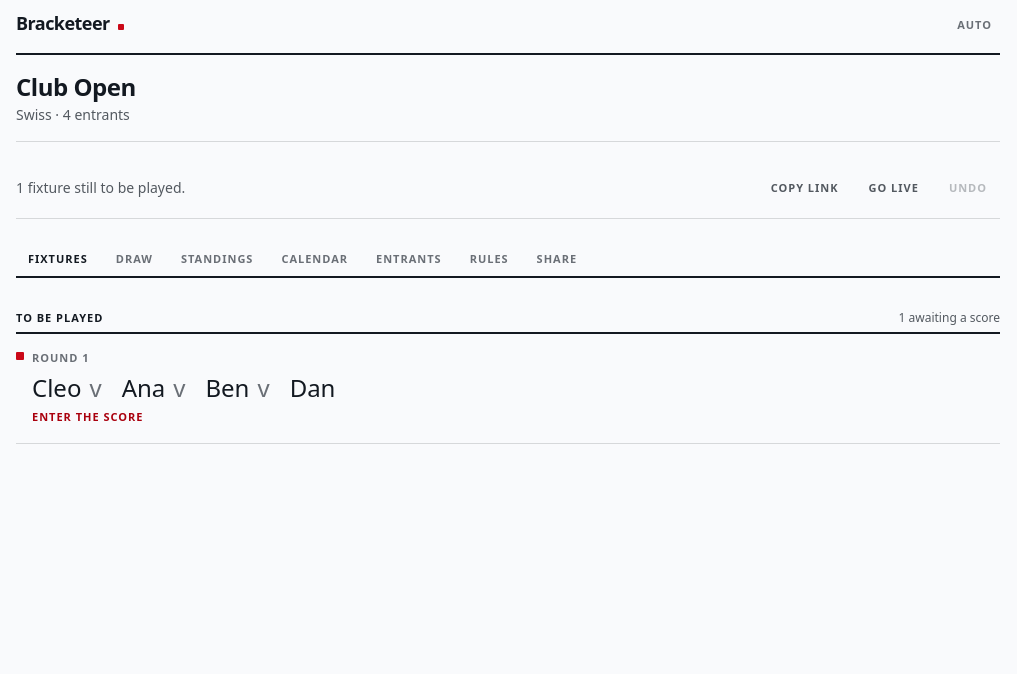
recording a result, in every shape the rules can take › takes a finishing order by tapping the names in order
Click the button "Enter the score".
click(57, 387)  # box [16,372,1000,426]
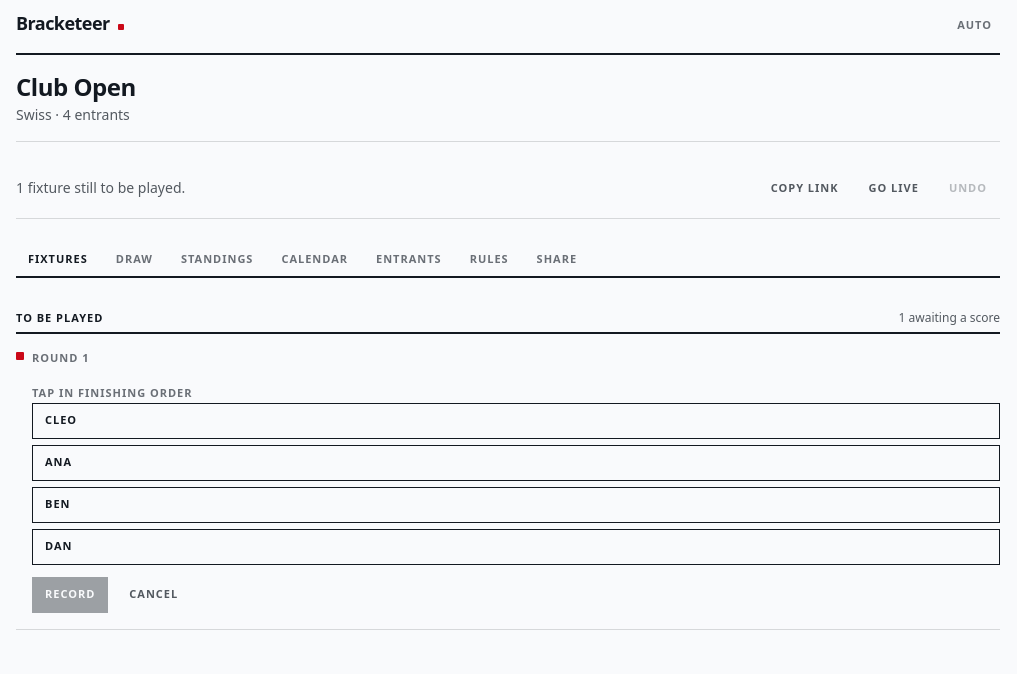
Result: the button "Record" is disabled at [32,576,108,612]
Click the button "Ana".
click(59, 462)  # box [32,444,1000,480]
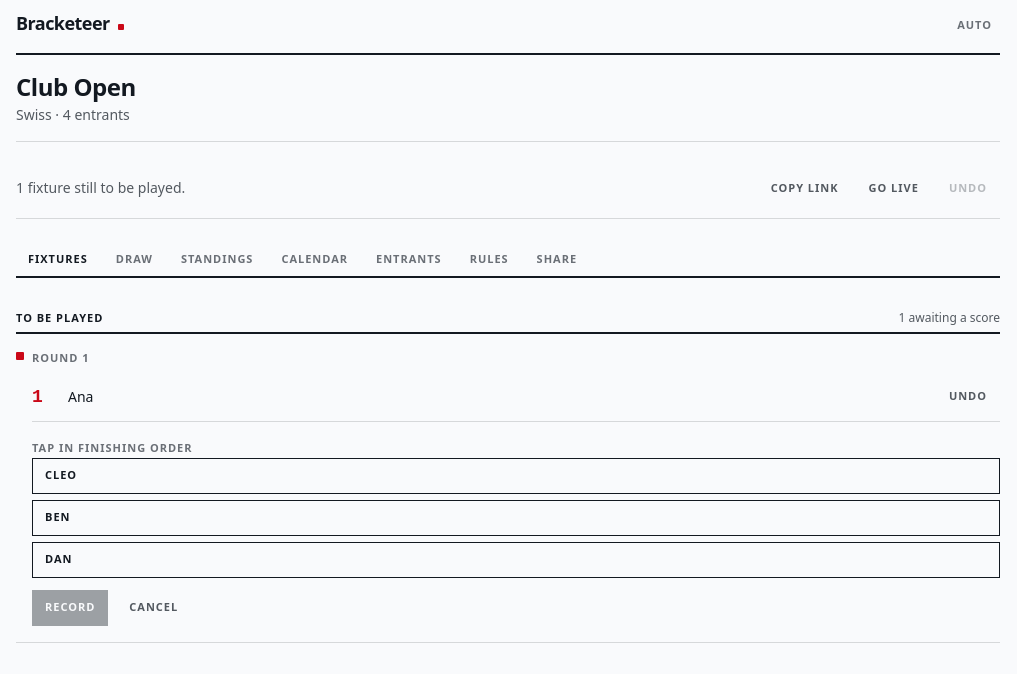
Click the button "Ben".
click(58, 517)  # box [32,500,1000,536]
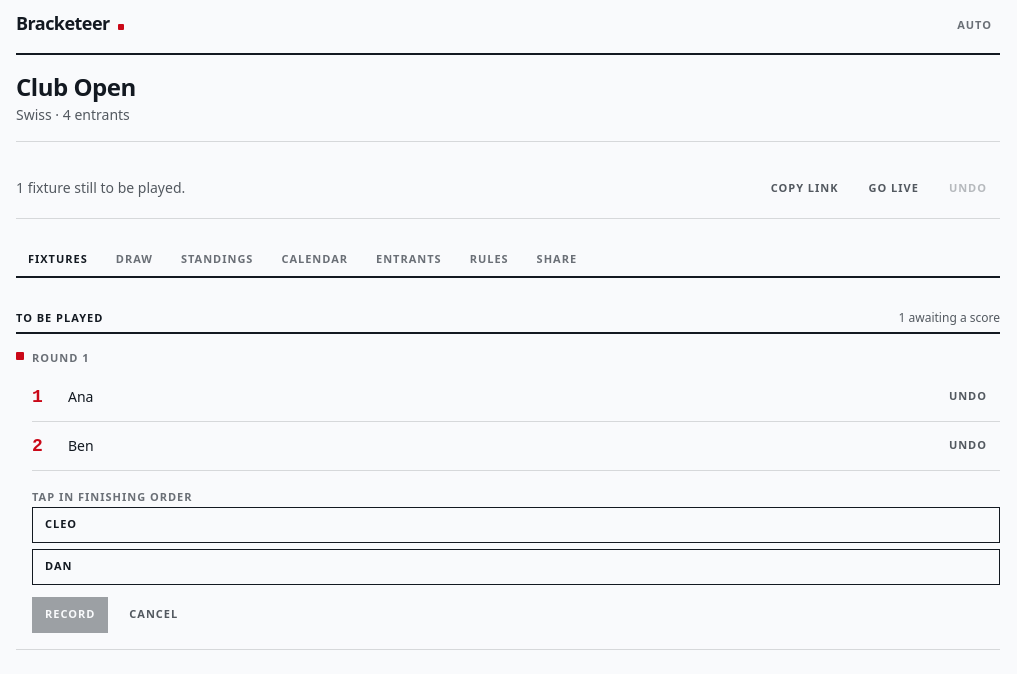
Click the button "Cleo".
click(61, 524)  # box [32,506,1000,542]
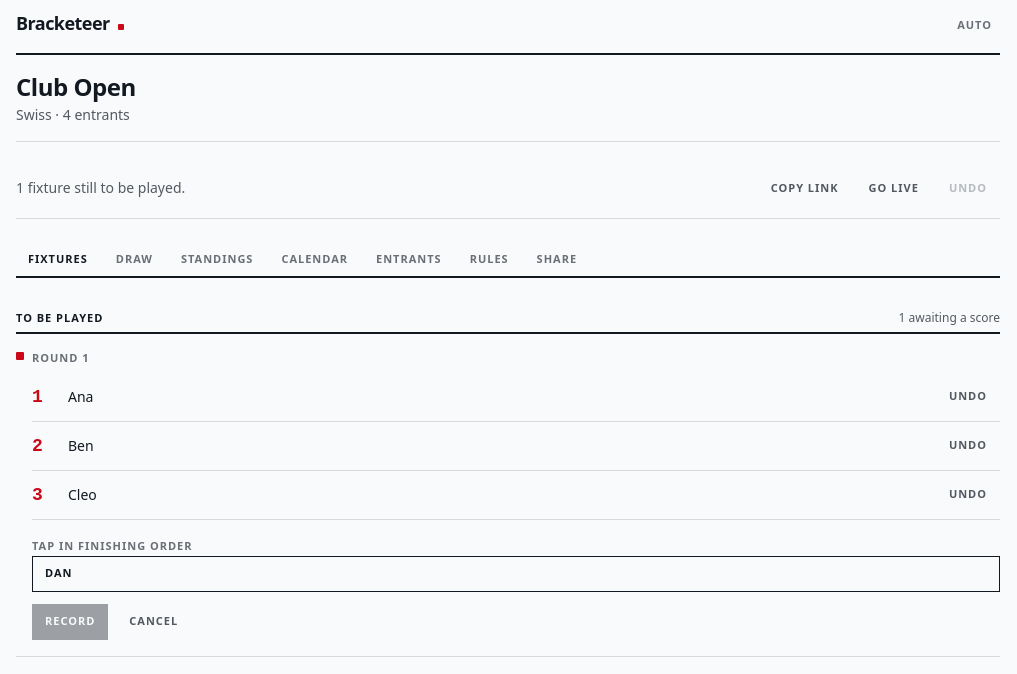
Click the button "Dan".
click(59, 573)  # box [32,556,1000,592]
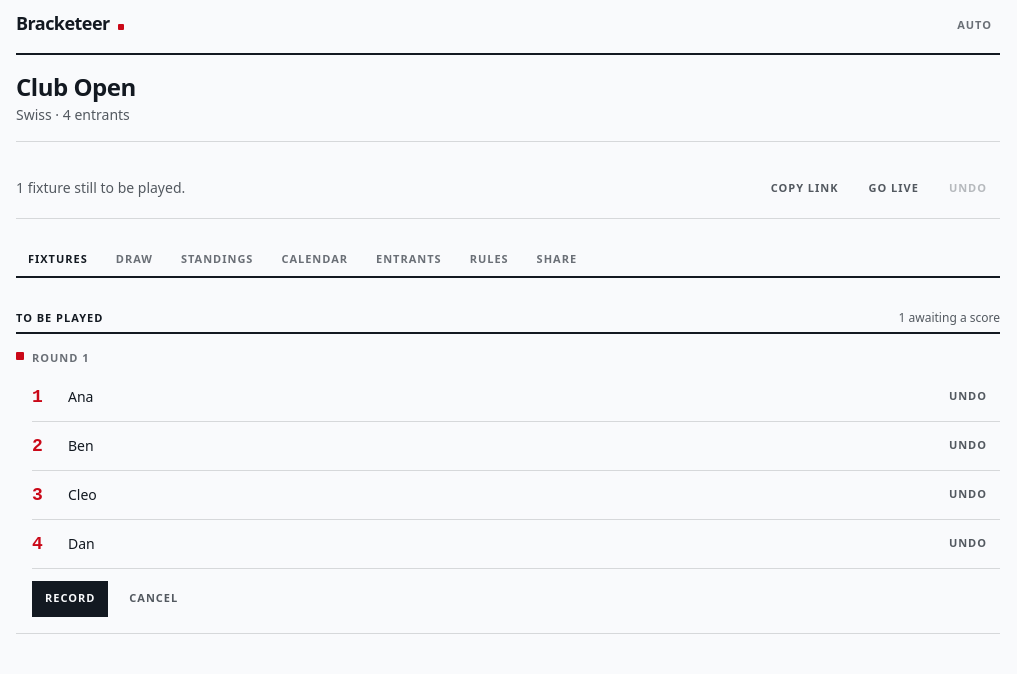
Result: the button "Record" is enabled
Click the button "Record".
click(70, 598)  # box [32,580,108,616]
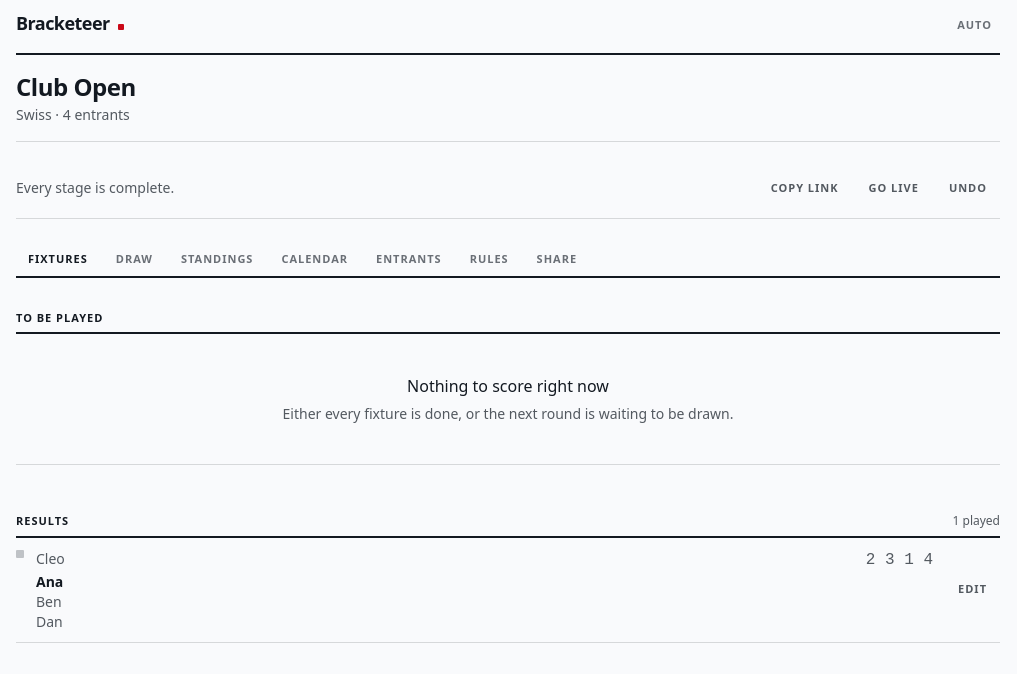
Result: the text "1 played" is shown at [952,513,1000,529]
